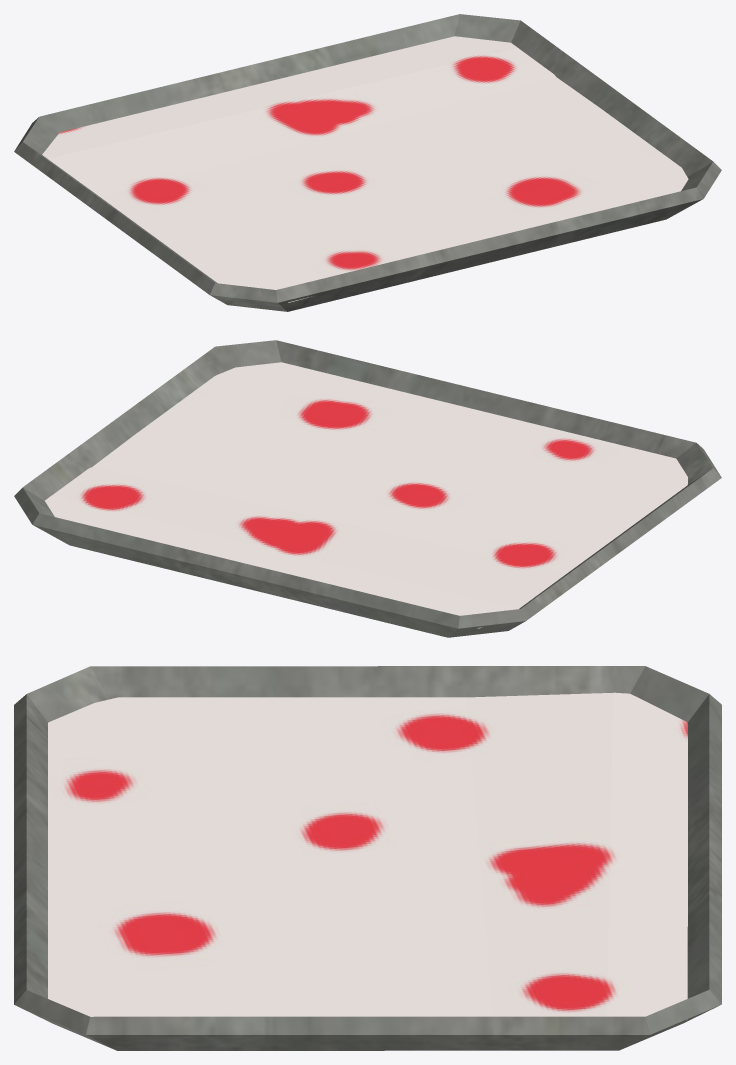
The model's file is Tray Nisasta.fbx.
3 renders of one model, top to bottom at view 1: azimuth 30°, elevation 25°; view 2: azimuth 150°, elevation 25°; view 3: azimuth 270°, elevation 25°, orthographic. The views are drawn at different scales.
Parts seen in each view (by area): view 1: Tray Nisasta, Tray; view 2: Tray Nisasta, Tray; view 3: Tray Nisasta, Tray.
Part boxes in pixels (box(x1,y1,x2,y2)): Tray Nisasta: box(42, 36, 688, 302); Tray: box(14, 14, 721, 311); Tray Nisasta: box(45, 362, 687, 628); Tray: box(14, 340, 721, 637); Tray Nisasta: box(48, 692, 687, 1020); Tray: box(14, 666, 721, 1050).
Size of the model in its own units: 88.3 by 5.64 by 73.28.
Materials: 2 (2 with a texture image).
